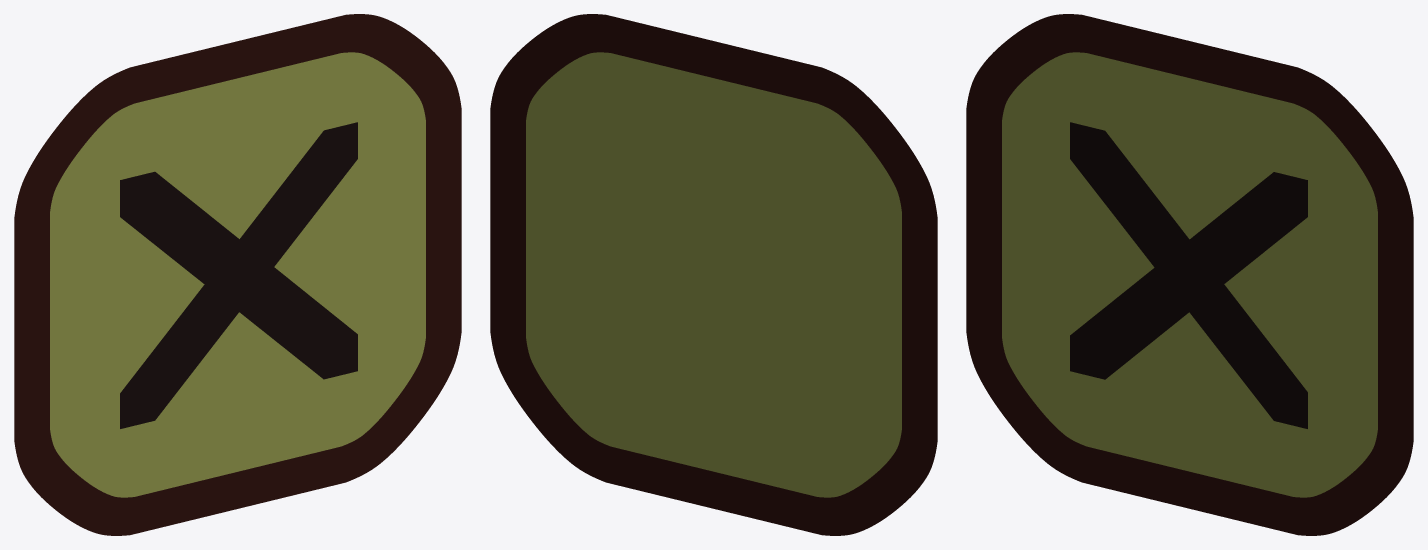
Rendered from icon_Icon.fbx.
3 views of the same model, side by side, from view 1: azimuth 30°, elevation 25°; view 2: azimuth 150°, elevation 25°; view 3: azimuth 330°, elevation 25° (orthographic).
Visible parts, largest first — view 1: BackgroundMesh, BorderMesh, IconMesh; view 2: BackgroundMesh, BorderMesh; view 3: BackgroundMesh, BorderMesh, IconMesh.
Part boxes in pixels (box(x1,y1,x2,y2)): BackgroundMesh: box(50, 52, 425, 497); BorderMesh: box(14, 14, 461, 535); IconMesh: box(120, 122, 357, 428); BackgroundMesh: box(526, 52, 901, 497); BorderMesh: box(490, 14, 937, 535); BackgroundMesh: box(1002, 52, 1377, 497); BorderMesh: box(966, 14, 1413, 535); IconMesh: box(1070, 122, 1307, 428).
Bounding box in the file's own units: 25 × 25 × 0.0941.
